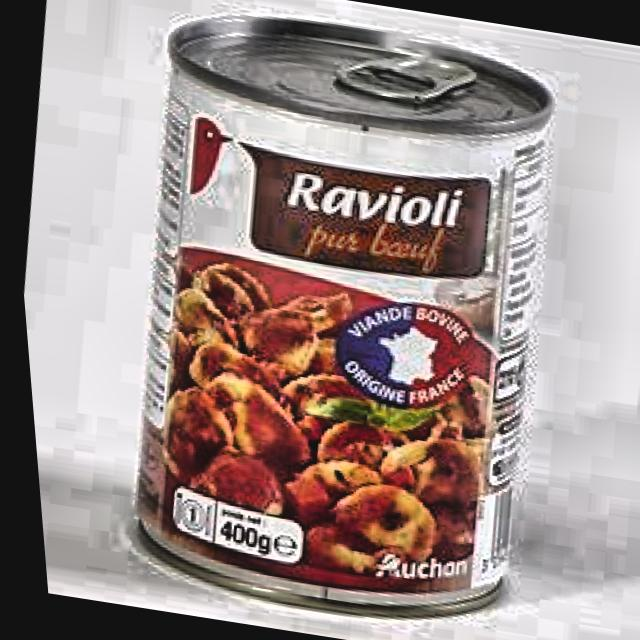Cans: (58, 0, 626, 640)
